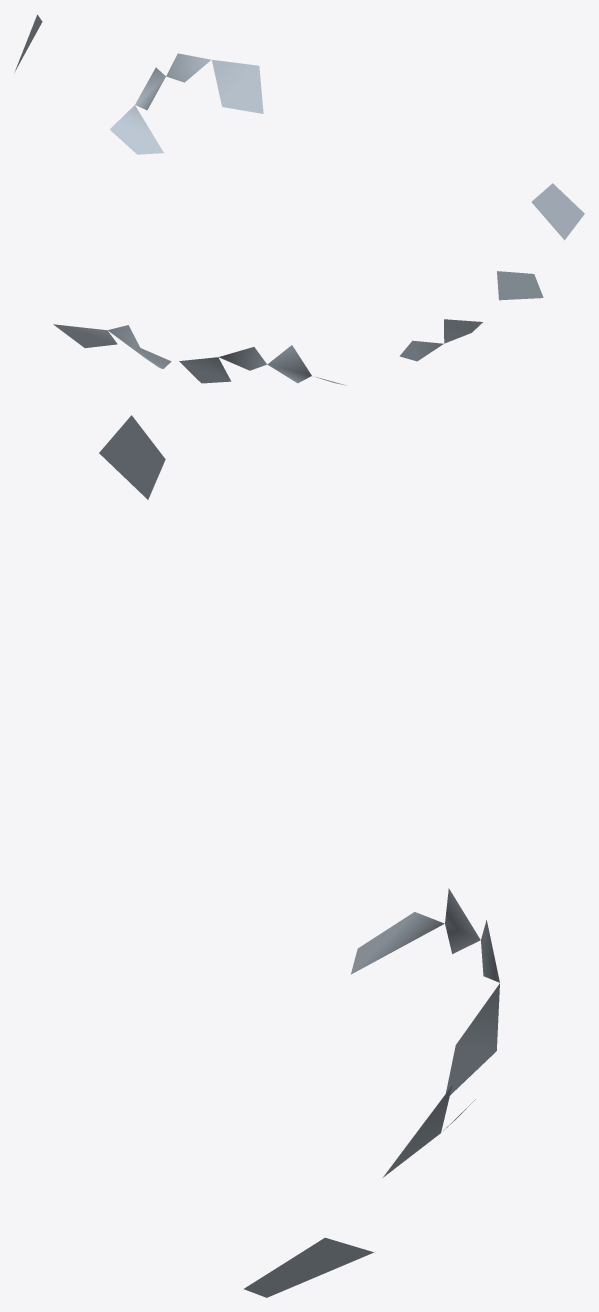
The model's file is dorsal-carpometacarpal-ligaments-r.glb.
The picture shows the model from 3 angles, top to bottom: view 1: azimuth 30°, elevation 25°; view 2: azimuth 150°, elevation 25°; view 3: azimuth 270°, elevation 25°; orthographic projection. The views are drawn at different scales.
Visible parts, largest first — view 1: Dorsal carpometacarpal ligaments.r; view 2: Dorsal carpometacarpal ligaments.r; view 3: Dorsal carpometacarpal ligaments.r.
Boxes of the visible parts, bbox=[...] form: Dorsal carpometacarpal ligaments.r: bbox=[14, 14, 263, 154]; Dorsal carpometacarpal ligaments.r: bbox=[53, 183, 584, 385]; Dorsal carpometacarpal ligaments.r: bbox=[99, 415, 499, 1297].
Bounding box in the file's own units: 0.0468 × 0.0186 × 0.0155.
